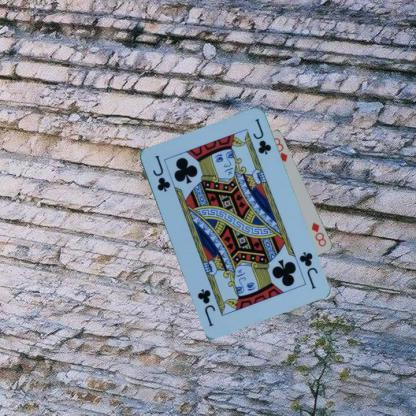8d: (309, 220, 328, 248)
Jc: (296, 248, 319, 290), (150, 152, 172, 194)
